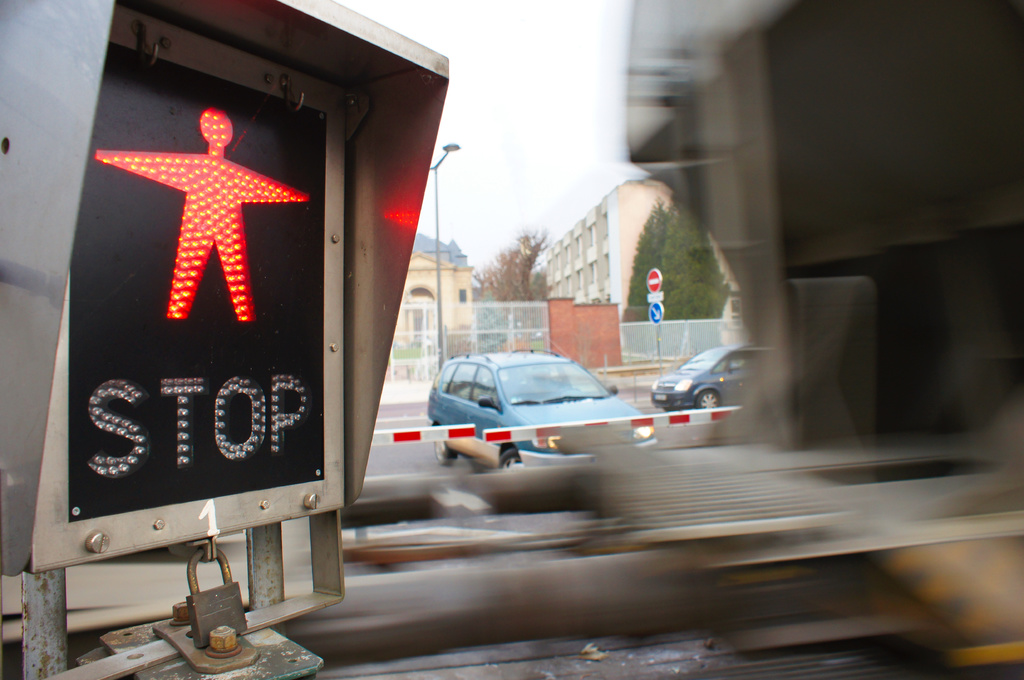keep_right: (646, 300, 667, 324)
